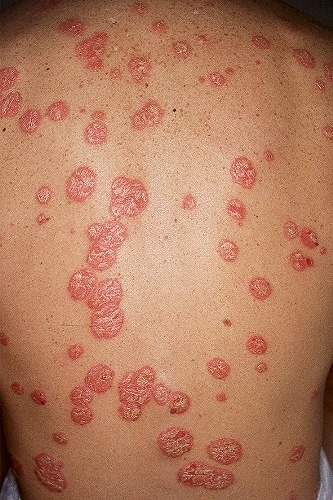Psoriasis: (67, 269, 129, 344), (116, 364, 172, 427), (80, 218, 129, 271), (104, 172, 151, 218), (173, 460, 238, 492), (27, 451, 68, 495), (157, 420, 196, 462), (75, 33, 113, 74), (127, 98, 169, 134), (65, 383, 95, 429), (227, 150, 258, 189), (206, 436, 249, 463), (83, 364, 120, 395), (64, 166, 94, 204), (201, 350, 233, 383), (17, 103, 45, 137), (291, 43, 319, 75), (0, 89, 27, 121), (124, 55, 153, 83), (0, 62, 25, 94), (249, 273, 276, 301), (165, 390, 193, 417), (58, 11, 84, 40), (225, 197, 253, 223), (81, 121, 110, 146), (216, 239, 242, 264), (290, 247, 314, 274), (298, 224, 321, 252), (46, 98, 69, 125), (280, 217, 301, 242), (247, 335, 272, 356), (149, 16, 170, 40), (286, 441, 307, 464), (29, 385, 50, 407), (170, 41, 193, 61), (129, 0, 150, 21), (33, 184, 52, 205), (210, 71, 226, 94), (251, 32, 270, 51), (253, 361, 272, 379), (67, 342, 84, 362), (51, 428, 68, 447), (212, 390, 230, 406), (9, 378, 24, 397), (261, 148, 276, 166), (183, 193, 195, 213), (0, 330, 10, 352), (38, 215, 53, 229)
